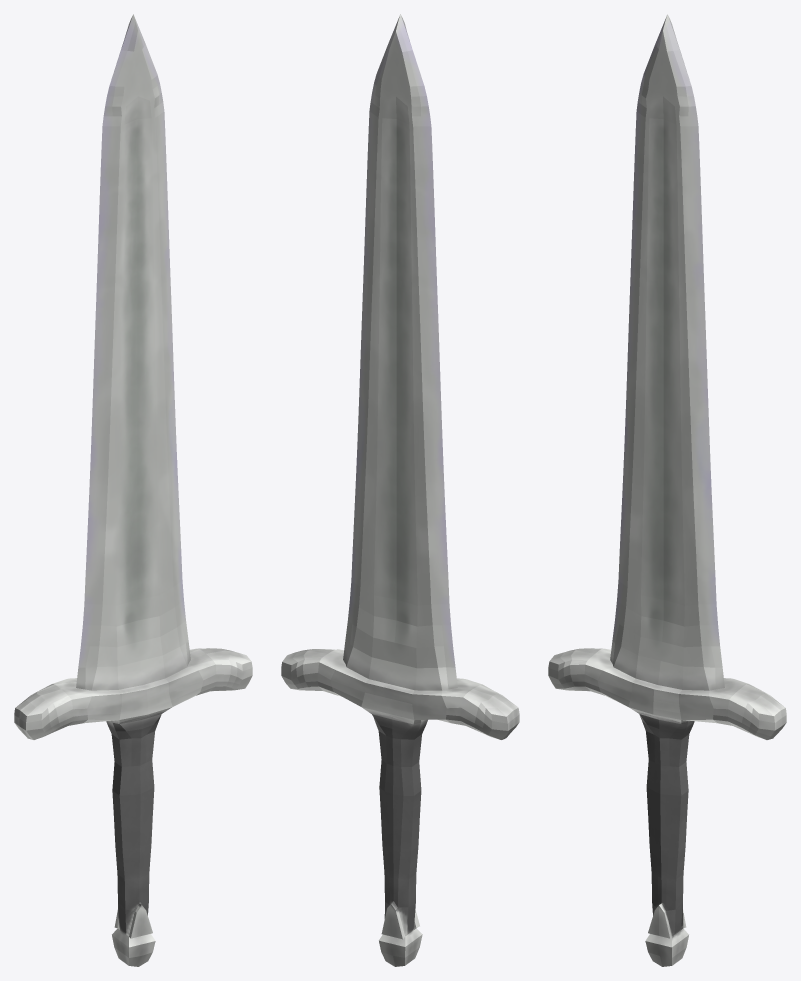
File: BaseSword.fbx
The picture shows the model from 3 angles, left to right: view 1: azimuth 30°, elevation 25°; view 2: azimuth 150°, elevation 25°; view 3: azimuth 330°, elevation 25°; orthographic projection.
Visible parts, largest first — view 1: BaseSword; view 2: BaseSword; view 3: BaseSword.
Part boxes in pixels (bbox=[...]): BaseSword: bbox=[14, 14, 252, 966]; BaseSword: bbox=[281, 14, 519, 966]; BaseSword: bbox=[548, 14, 786, 966].
Size of the model in its own units: 13.47 by 53.5 by 2.76.
1 material, 1 textured.
